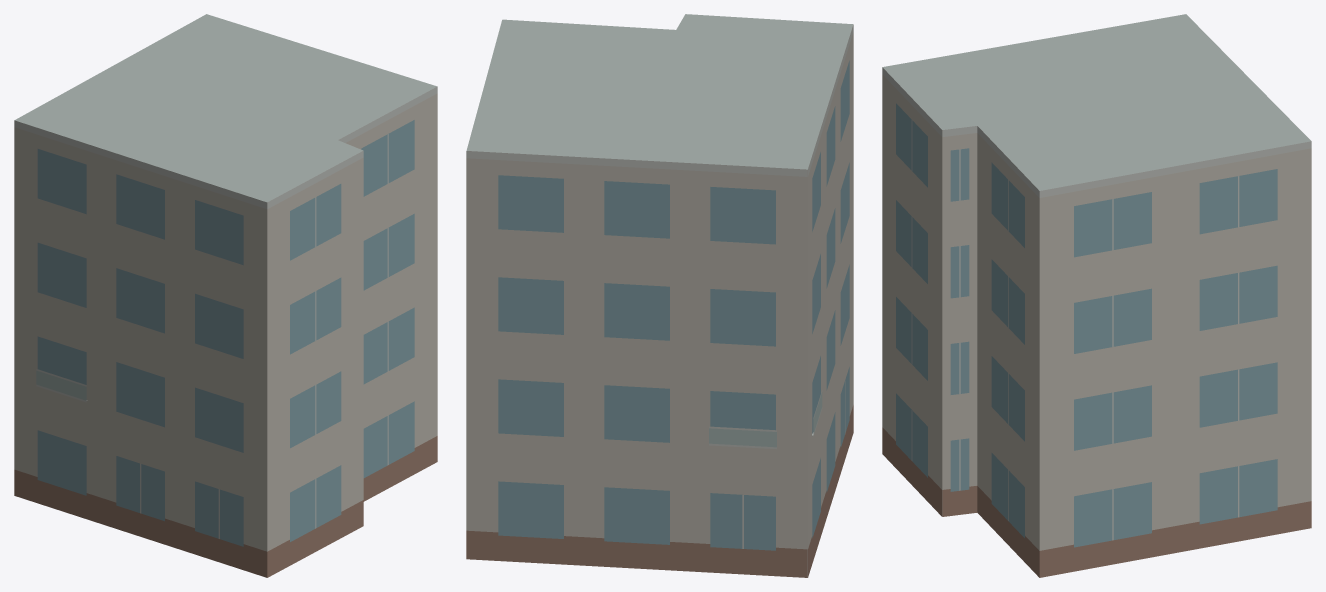
Rendered from survey-upis-32852053.glb.
The picture shows the model from 3 angles, left to right: view 1: azimuth 30°, elevation 25°; view 2: azimuth 150°, elevation 25°; view 3: azimuth 270°, elevation 25°; orthographic projection. The views are drawn at different scales.
Visible parts, largest first — view 1: survey-upis-32852053.tmp; view 2: survey-upis-32852053.tmp; view 3: survey-upis-32852053.tmp.
Part boxes in pixels (<box>): survey-upis-32852053.tmp: <box>14,14,437,577</box>; survey-upis-32852053.tmp: <box>466,14,853,577</box>; survey-upis-32852053.tmp: <box>882,14,1311,577</box>.
Bounding box in the file's own units: 13.16 × 13.4 × 13.49.
